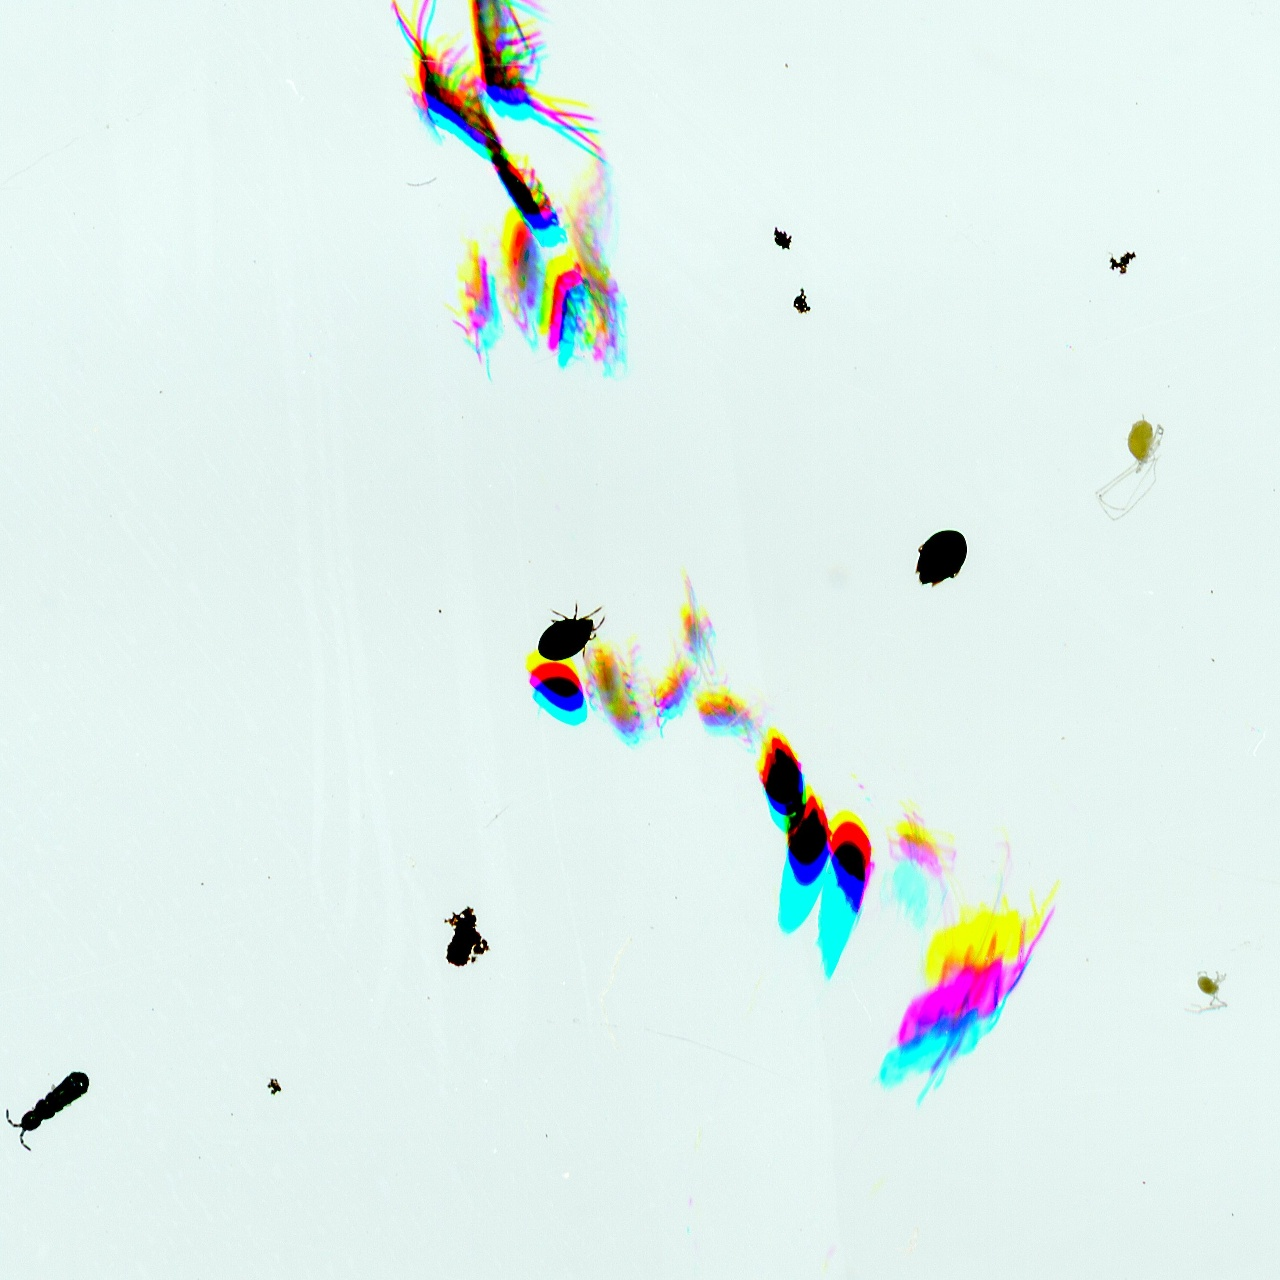arthropod: (349, 0, 535, 196), (881, 904, 1076, 1068), (462, 0, 626, 166), (1054, 394, 1190, 536), (561, 165, 635, 354), (0, 1051, 114, 1162), (475, 128, 572, 250), (438, 231, 502, 387), (577, 626, 649, 747), (885, 795, 956, 907), (673, 564, 735, 680), (898, 512, 980, 593), (751, 726, 808, 836), (502, 207, 542, 350), (544, 250, 587, 374), (828, 805, 871, 920), (532, 600, 607, 665), (787, 789, 826, 894), (695, 680, 765, 738), (525, 658, 583, 726), (651, 655, 690, 735), (1177, 966, 1233, 1019)
